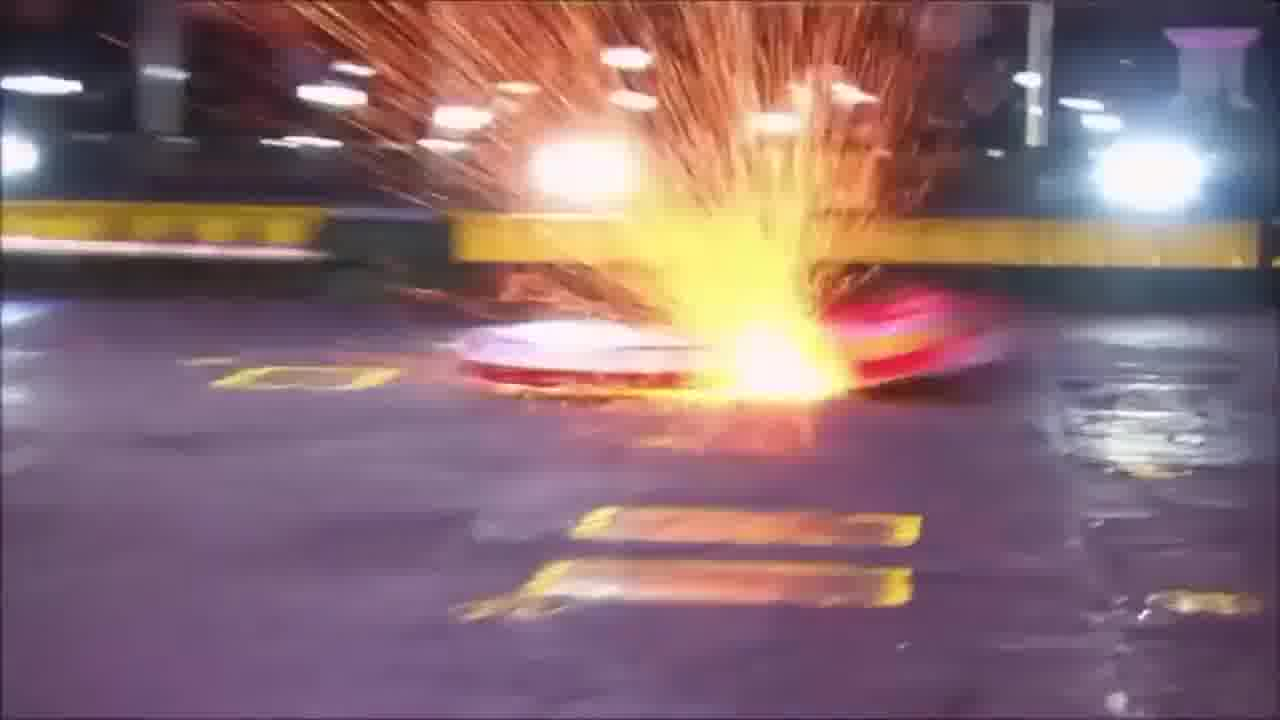combatbot: (817, 291, 1026, 382), (452, 317, 717, 384)
